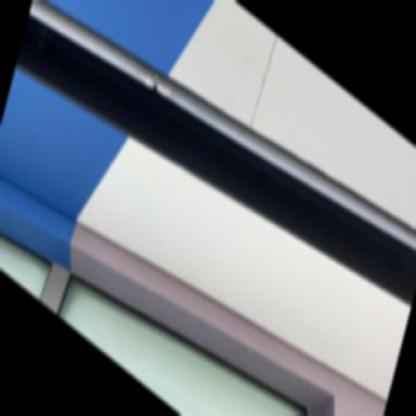light_off: (26, 0, 415, 336)
